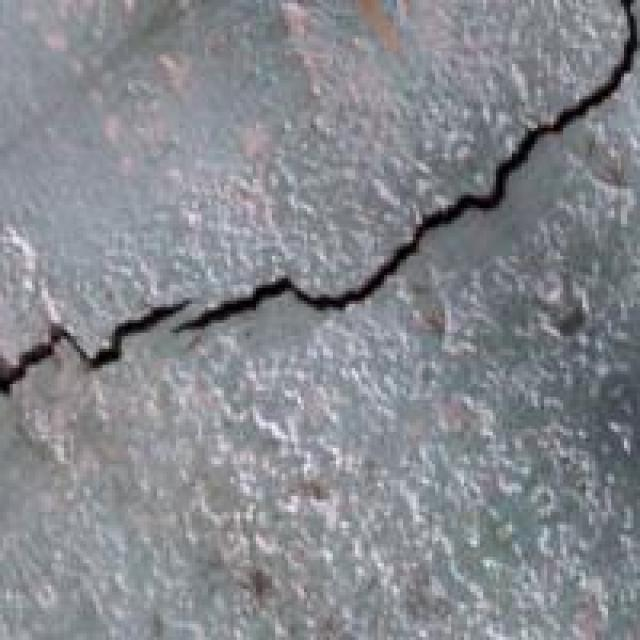crack: (3, 0, 637, 445)
